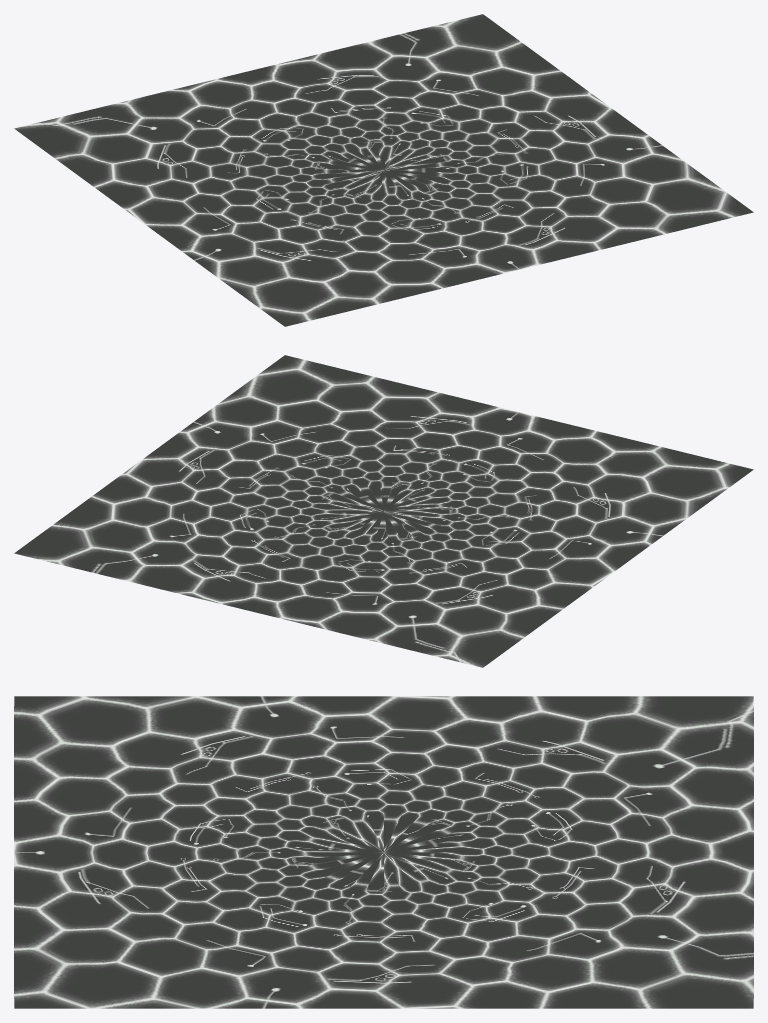
Rendered from liubianxian_ju.FBX.
The picture shows the model from 3 angles, top to bottom: view 1: azimuth 30°, elevation 25°; view 2: azimuth 150°, elevation 25°; view 3: azimuth 270°, elevation 25°; orthographic projection. The views are drawn at different scales.
Parts seen in each view (by area): view 1: z; view 2: z; view 3: z.
Boxes of the visible parts, x1,y1,x2,y2 form: z: (14,14,753,326); z: (14,355,753,667); z: (14,696,753,1008).
Size of the model in its own units: 100 by 0.000669 by 100.
